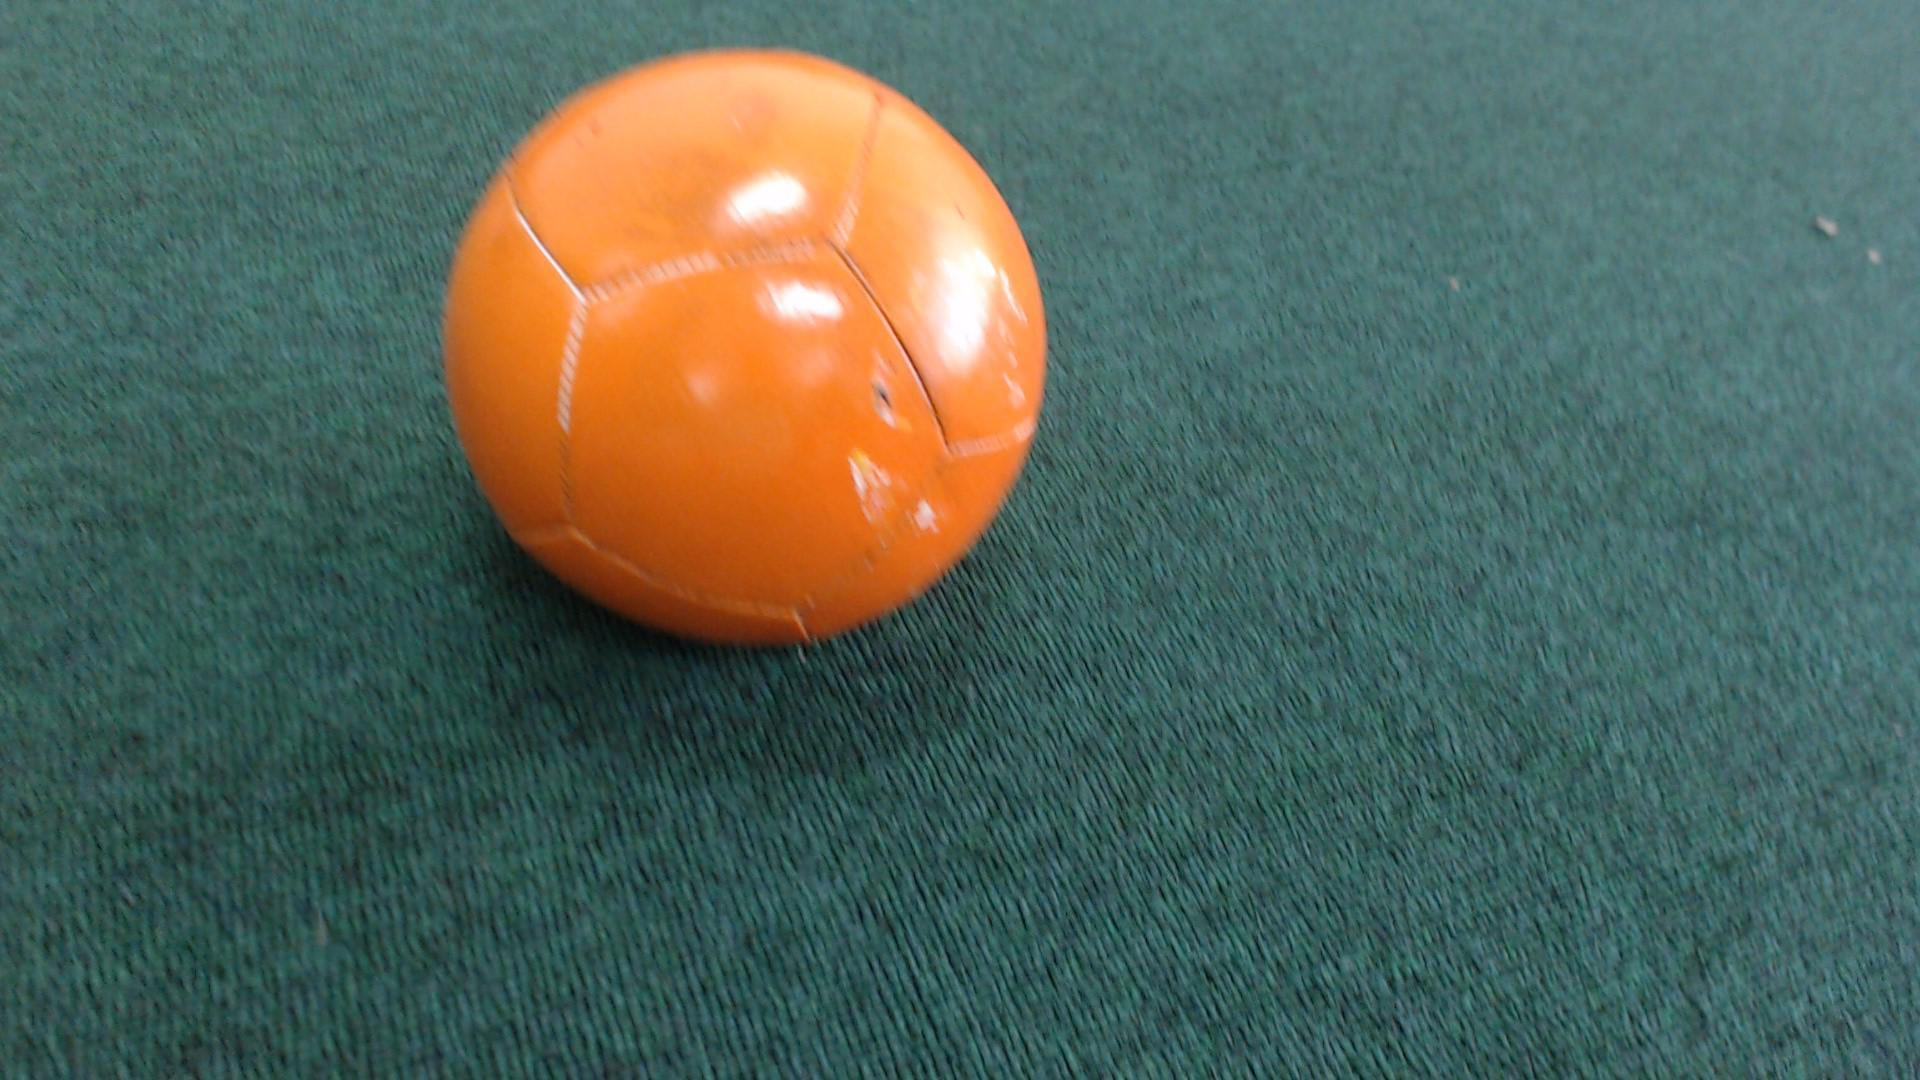bola: (407, 42, 1077, 669)
